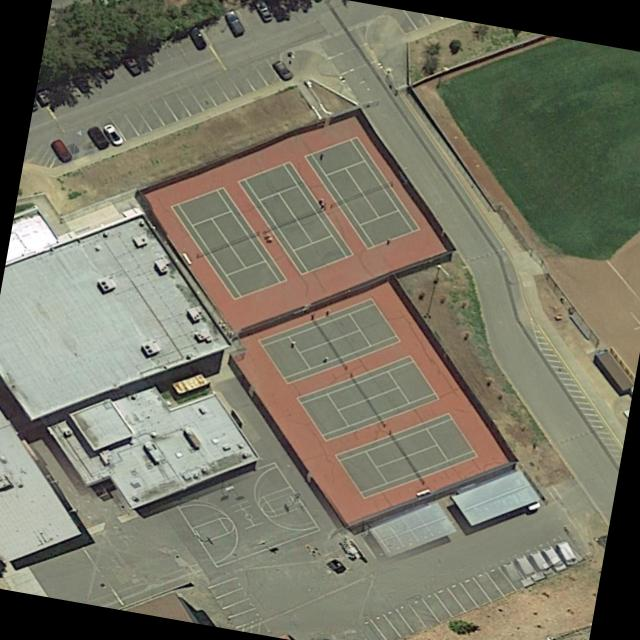small-vehicle: (84, 123, 112, 150), (119, 51, 145, 77), (222, 9, 247, 35), (100, 122, 125, 145), (185, 26, 208, 50), (50, 138, 73, 162), (252, 0, 275, 21), (273, 59, 295, 80)
